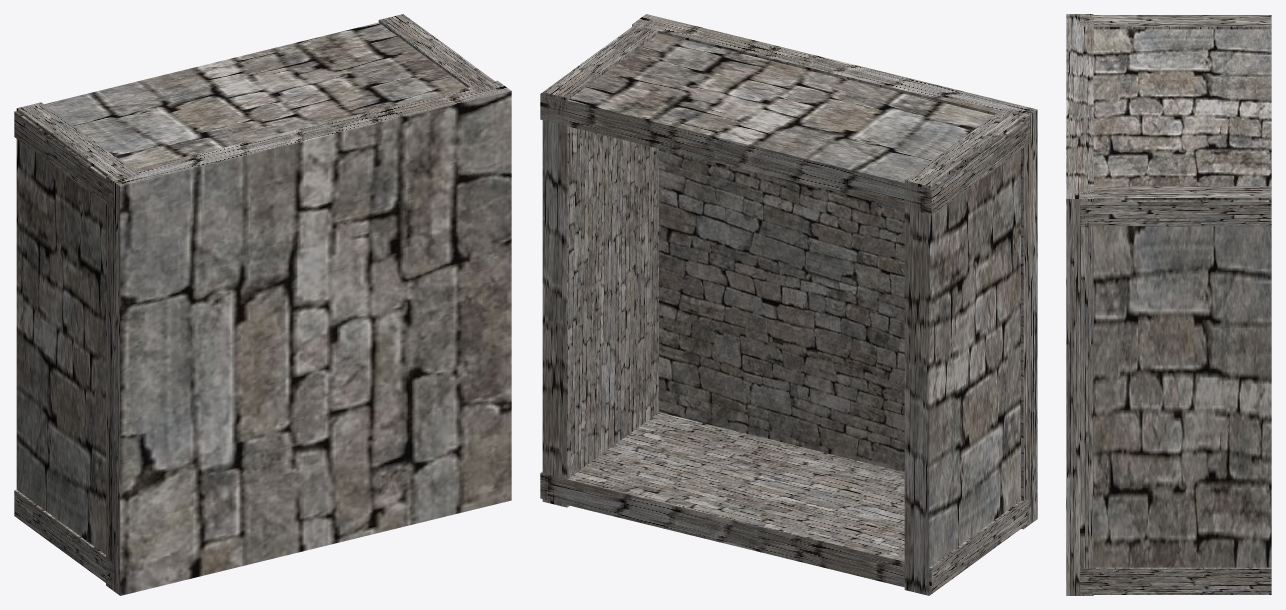
Rendered from walls.obj.
3 renders of one model, left to right at view 1: azimuth 30°, elevation 25°; view 2: azimuth 150°, elevation 25°; view 3: azimuth 270°, elevation 25°, orthographic. The views are drawn at different scales.
Visible parts, largest first — view 1: Cube.018_Cube.015, Cube.016_Cube.013, Cube.014_Cube, Cube.015_Cube.012, Cube.017_Cube.014; view 2: Cube.018_Cube.015, Cube.016_Cube.013, Cube.014_Cube, Cube.017_Cube.014, Cube.015_Cube.012; view 3: Cube.017_Cube.014, Cube.014_Cube, Cube.018_Cube.015, Cube.015_Cube.012, Cube.016_Cube.013.
Boxes of the visible parts, x1=… form: Cube.018_Cube.015: x1=106, y1=80, x2=511, y2=595; Cube.016_Cube.013: x1=16, y1=102, x2=139, y2=581; Cube.014_Cube: x1=14, y1=22, x2=467, y2=208; Cube.015_Cube.012: x1=14, y1=489, x2=113, y2=587; Cube.017_Cube.014: x1=378, y1=14, x2=501, y2=91; Cube.018_Cube.015: x1=632, y1=14, x2=1037, y2=529; Cube.016_Cube.013: x1=904, y1=108, x2=1027, y2=595; Cube.014_Cube: x1=540, y1=33, x2=1030, y2=214; Cube.017_Cube.014: x1=542, y1=20, x2=665, y2=507; Cube.015_Cube.012: x1=540, y1=412, x2=1030, y2=593; Cube.017_Cube.014: x1=1080, y1=186, x2=1271, y2=594; Cube.014_Cube: x1=1080, y1=29, x2=1271, y2=226; Cube.018_Cube.015: x1=1066, y1=14, x2=1093, y2=595; Cube.015_Cube.012: x1=1080, y1=567, x2=1271, y2=593; Cube.016_Cube.013: x1=1080, y1=15, x2=1271, y2=29.
Size of the model in its own units: 8 by 8 by 3.75.
